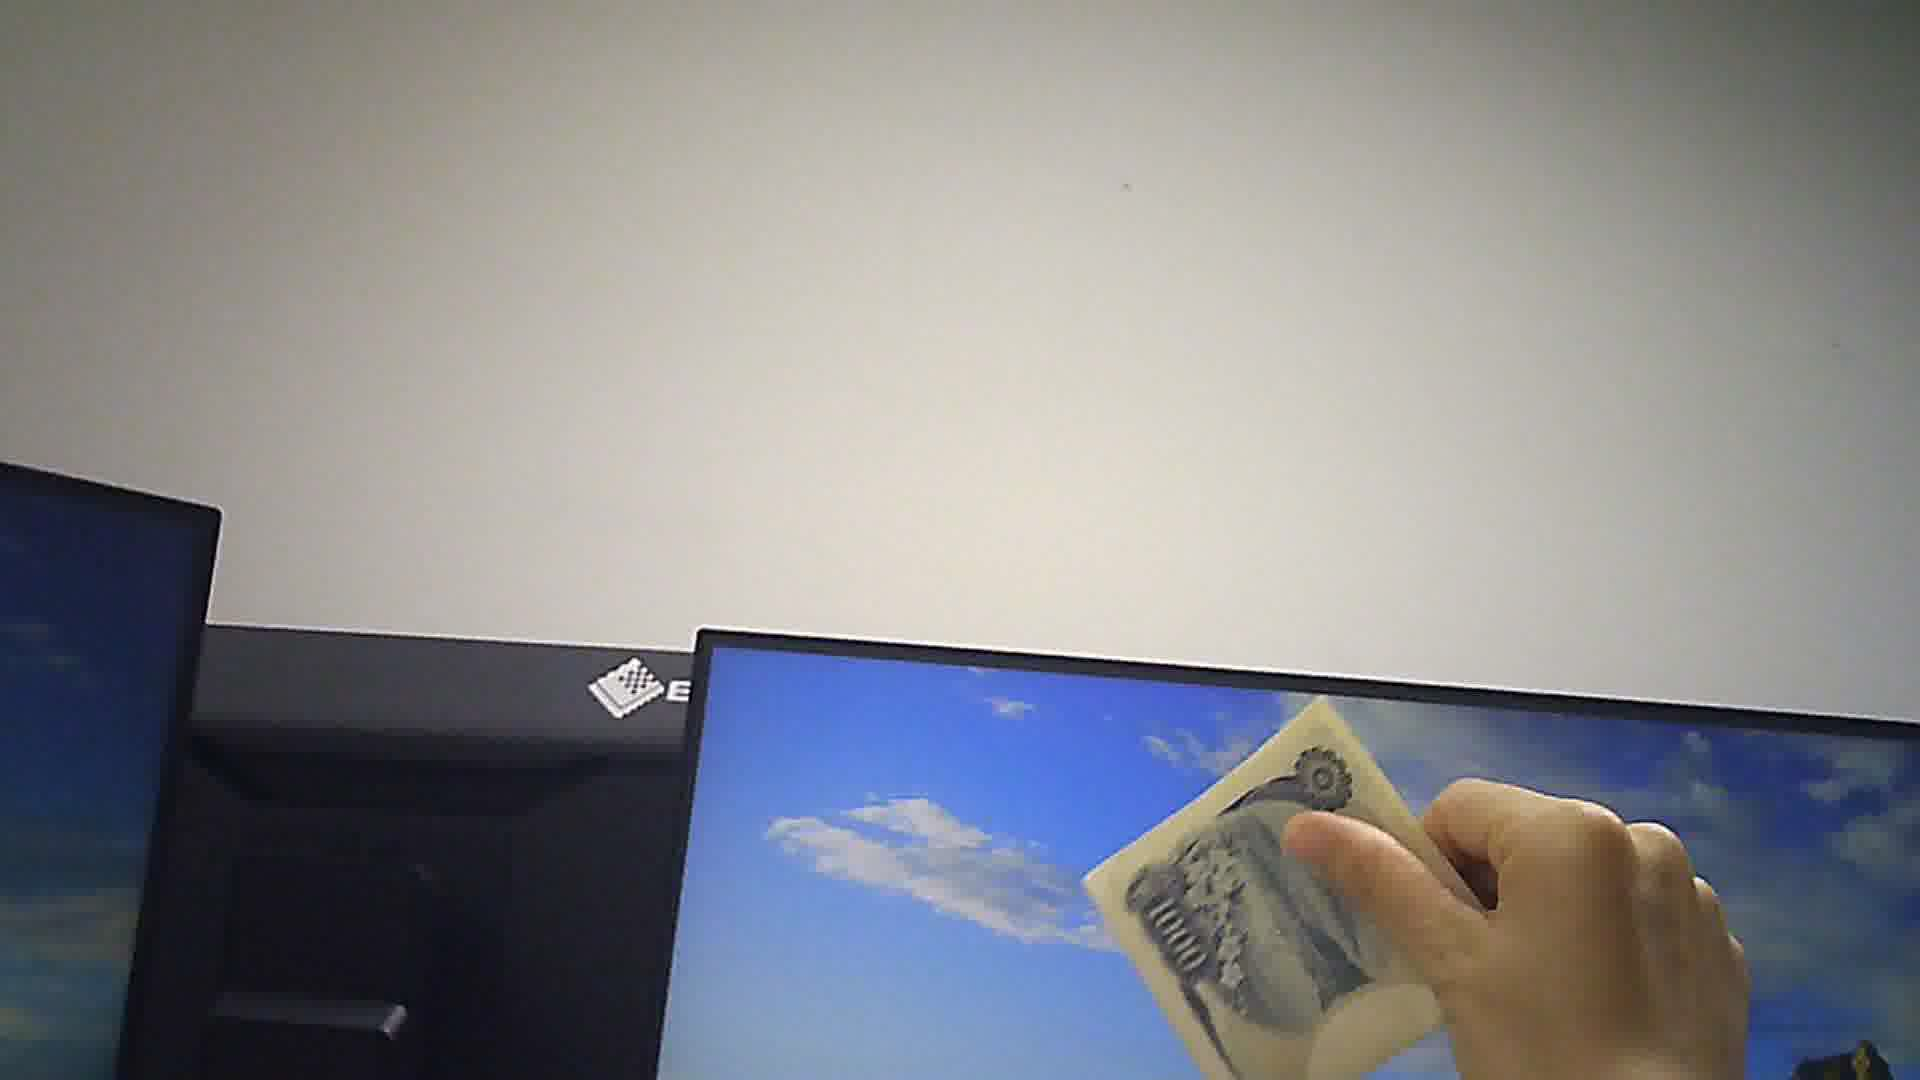1,000 Yen: (1091, 702, 1457, 1079)
